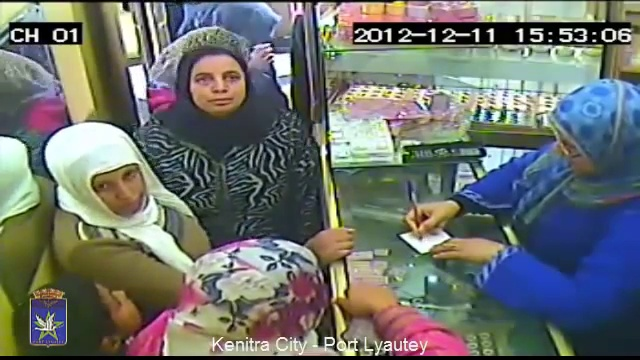face: (89, 285, 146, 340), (92, 158, 147, 214), (183, 66, 245, 111)
